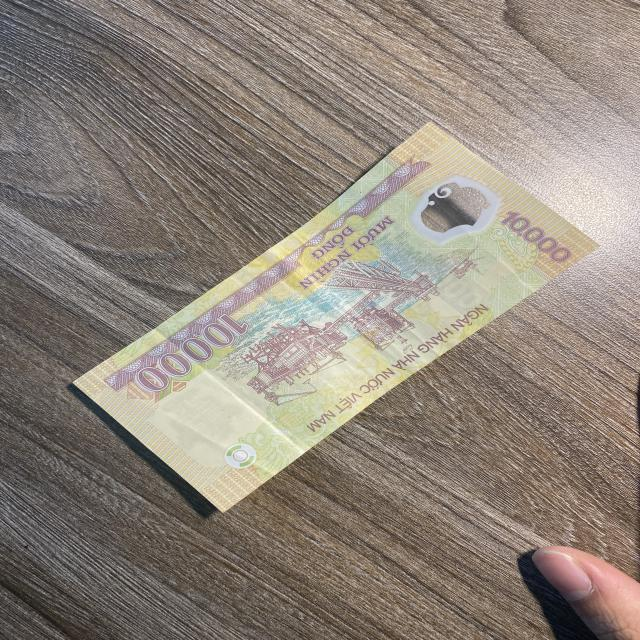10 000 VND: (71, 120, 602, 514)
